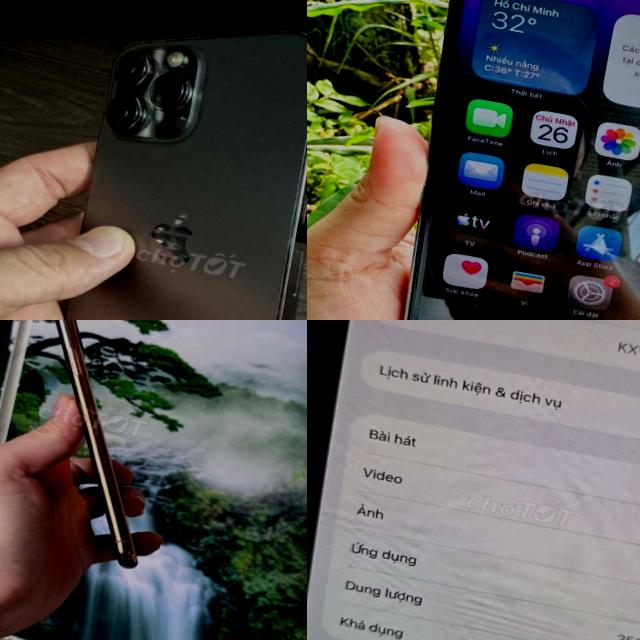gen_11: (2, 320, 193, 576)
gen_12_13: (20, 0, 307, 320)
gen_14: (341, 0, 640, 320)
gen_16: (307, 320, 640, 640)
